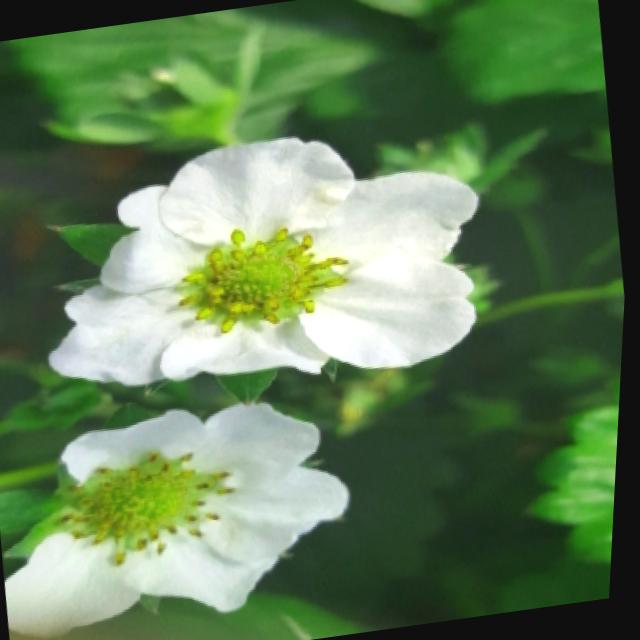Blossom Blight: (57, 443, 242, 567)
